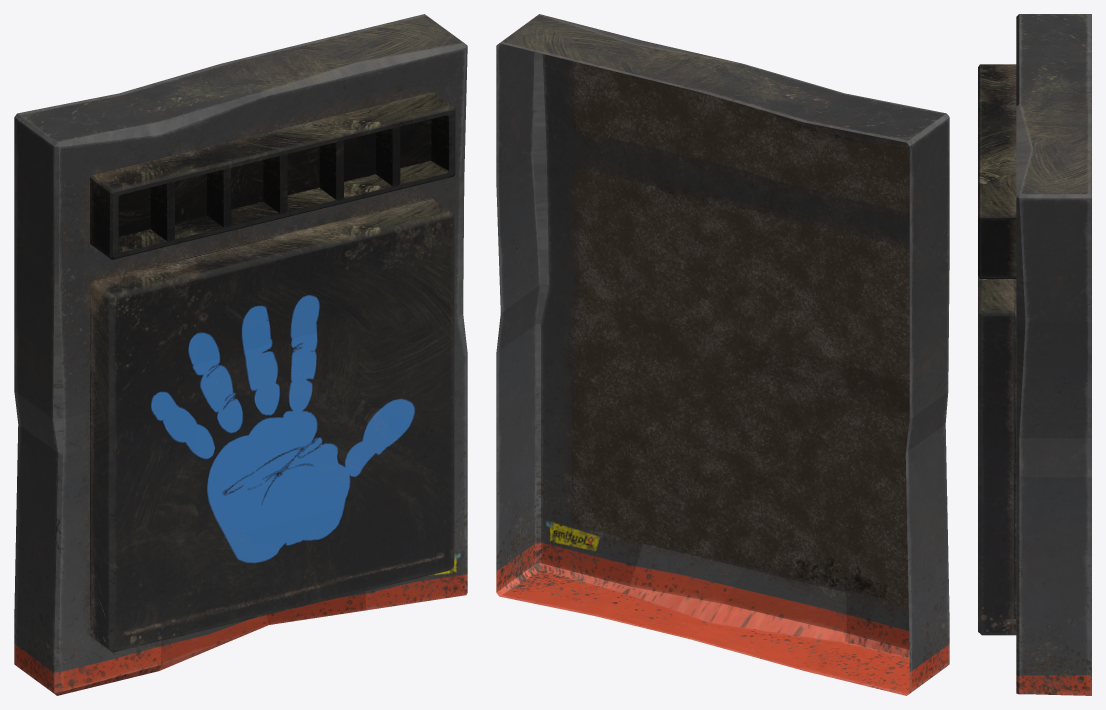
File: blue_scanner.glb
The picture shows the model from 3 angles, left to right: view 1: azimuth 30°, elevation 25°; view 2: azimuth 150°, elevation 25°; view 3: azimuth 270°, elevation 25°; orthographic projection. The views are drawn at different scales.
Visible parts, largest first — view 1: SM_HandScanner.mo; view 2: SM_HandScanner.mo; view 3: SM_HandScanner.mo.
Boxes of the visible parts, box(x1,y1,x2,y2) form: SM_HandScanner.mo: box(14, 14, 467, 695); SM_HandScanner.mo: box(496, 14, 949, 695); SM_HandScanner.mo: box(978, 14, 1091, 695).
Size of the model in its own units: 1.07 by 1.36 by 0.2804.
3 materials, 3 textured.
